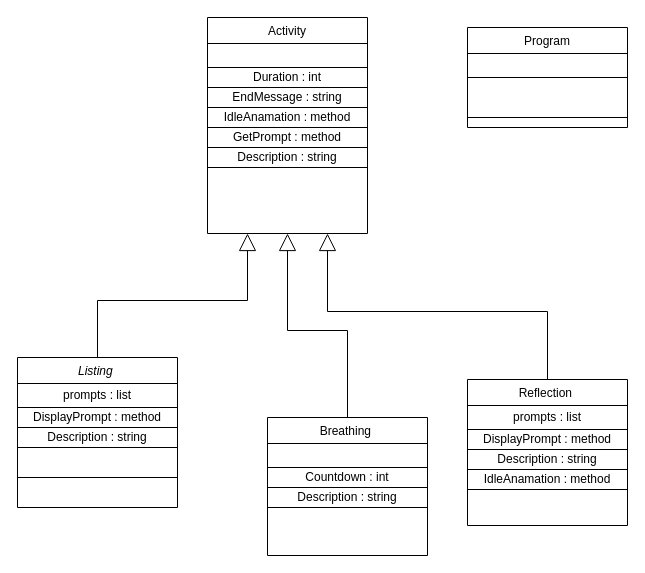
Image size: 645x573. Some labels were removed from this diagram. The centre of each missing label's shape, as x and y in pixels:
"Breath : method" belongs at [347,455].
"DisplayMenu : method" belongs at [547,65].
"ListedItems : list" belongs at [97,462].
"StartActivity : method" belongs at [547,97].
"WelcomeMessage : string" belongs at [287,55].
